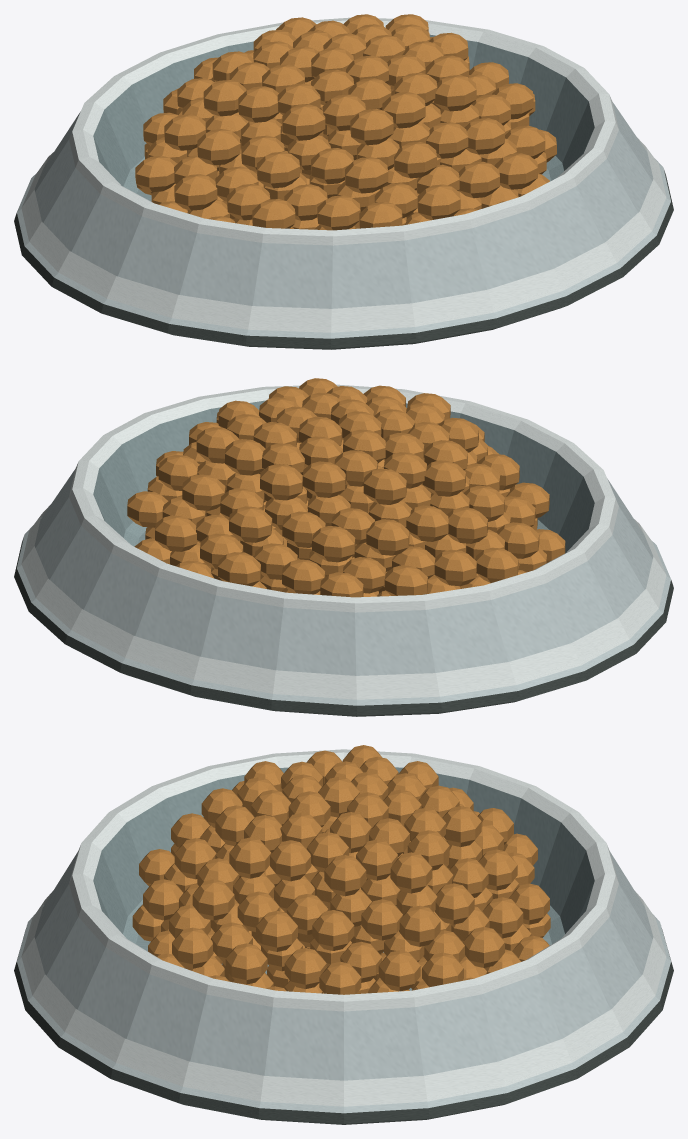
The model's file is food_bowl_budget.obj.
3 views of the same model, one above another, from view 1: azimuth 30°, elevation 25°; view 2: azimuth 150°, elevation 25°; view 3: azimuth 270°, elevation 25° (orthographic). The views are drawn at different scales.
Parts seen in each view (by area): view 1: food_bowl_budget; view 2: food_bowl_budget; view 3: food_bowl_budget.
Boxes of the visible parts, x1,y1,x2,y2 form: food_bowl_budget: (14,14,673,349); food_bowl_budget: (14,378,673,716); food_bowl_budget: (14,745,673,1124).
Size of the model in its own units: 14.16 by 4.08 by 12.89.
Materials: 1 (1 with a texture image).
